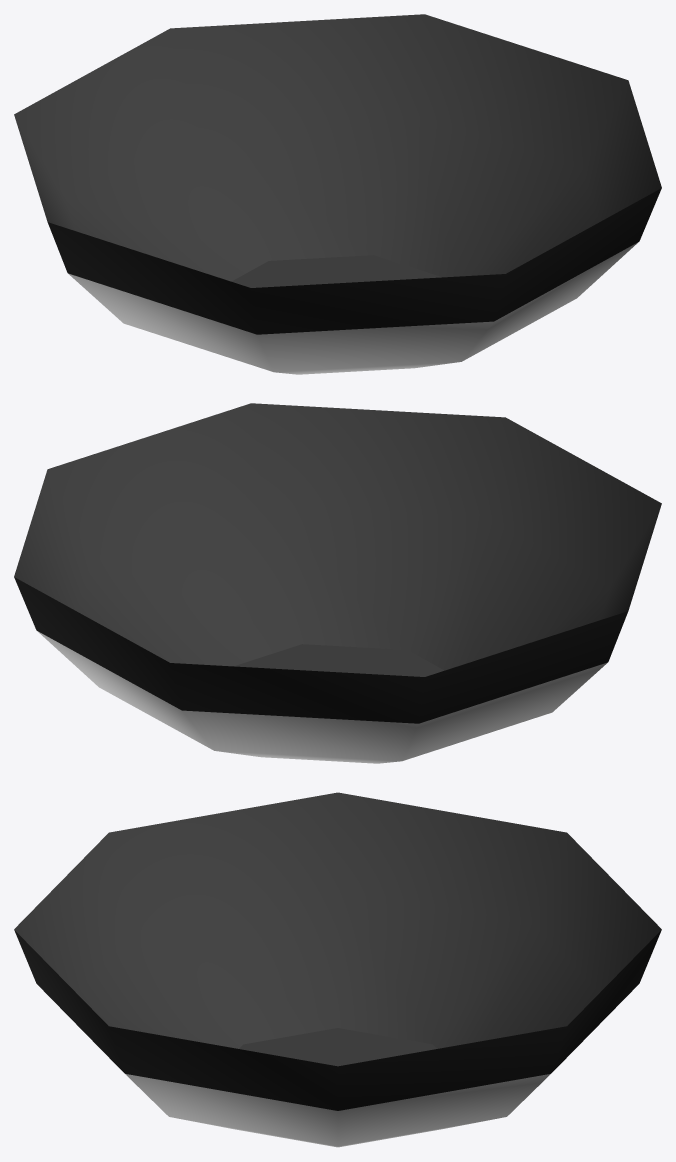
File: Bowl_A.FBX
The picture shows the model from 3 angles, top to bottom: view 1: azimuth 30°, elevation 25°; view 2: azimuth 150°, elevation 25°; view 3: azimuth 270°, elevation 25°; orthographic projection. The views are drawn at different scales.
Parts seen in each view (by area): view 1: Bowl; view 2: Bowl; view 3: Bowl.
Part boxes in pixels (box(x1,y1,x2,y2)): Bowl: box(14, 14, 661, 374); Bowl: box(14, 403, 661, 763); Bowl: box(14, 792, 661, 1147).
Bounding box in the file's own units: 70.43 × 18.64 × 70.43.
